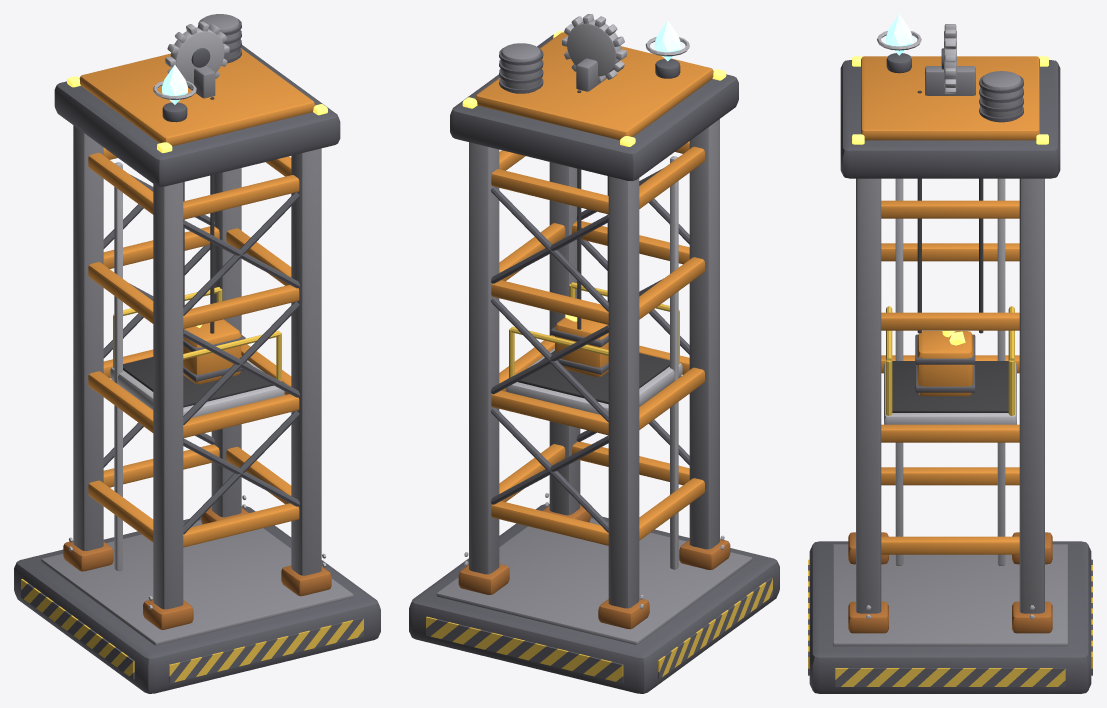
Rendered from Lift.glb.
The picture shows the model from 3 angles, left to right: view 1: azimuth 30°, elevation 25°; view 2: azimuth 150°, elevation 25°; view 3: azimuth 270°, elevation 25°; orthographic projection. The views are drawn at different scales.
Visible parts, largest first — view 1: Lift; view 2: Lift; view 3: Lift.
Boxes of the visible parts, x1,y1,x2,y2 form: Lift: [14, 14, 380, 693]; Lift: [409, 14, 779, 693]; Lift: [808, 14, 1092, 693].
Bounding box in the file's own units: 1.11 × 2.64 × 1.11.
